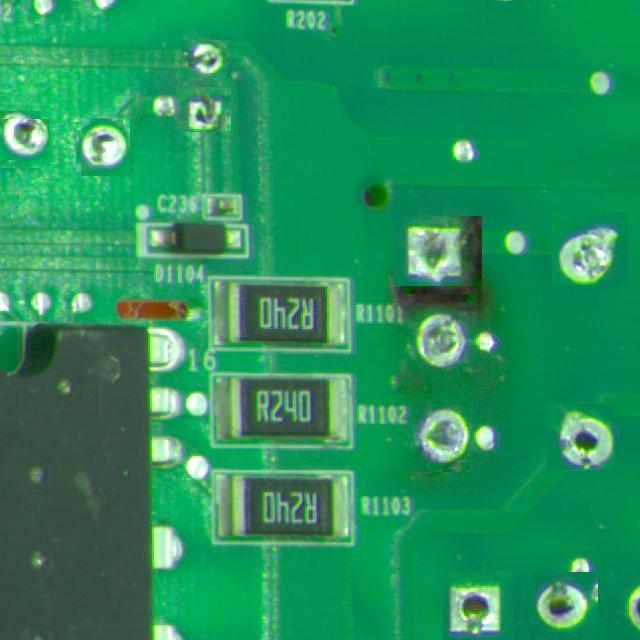lack_of_part: (399, 211, 478, 290), (553, 211, 628, 286), (443, 570, 513, 640), (548, 403, 615, 471), (413, 401, 473, 472), (535, 573, 598, 636), (410, 312, 474, 374), (78, 120, 132, 174), (182, 85, 230, 133), (0, 115, 45, 164), (182, 40, 227, 78)
